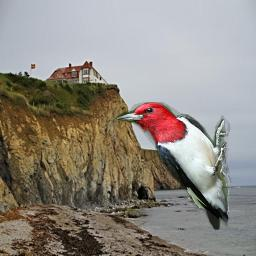Woodpecker: (113, 102, 235, 230)
